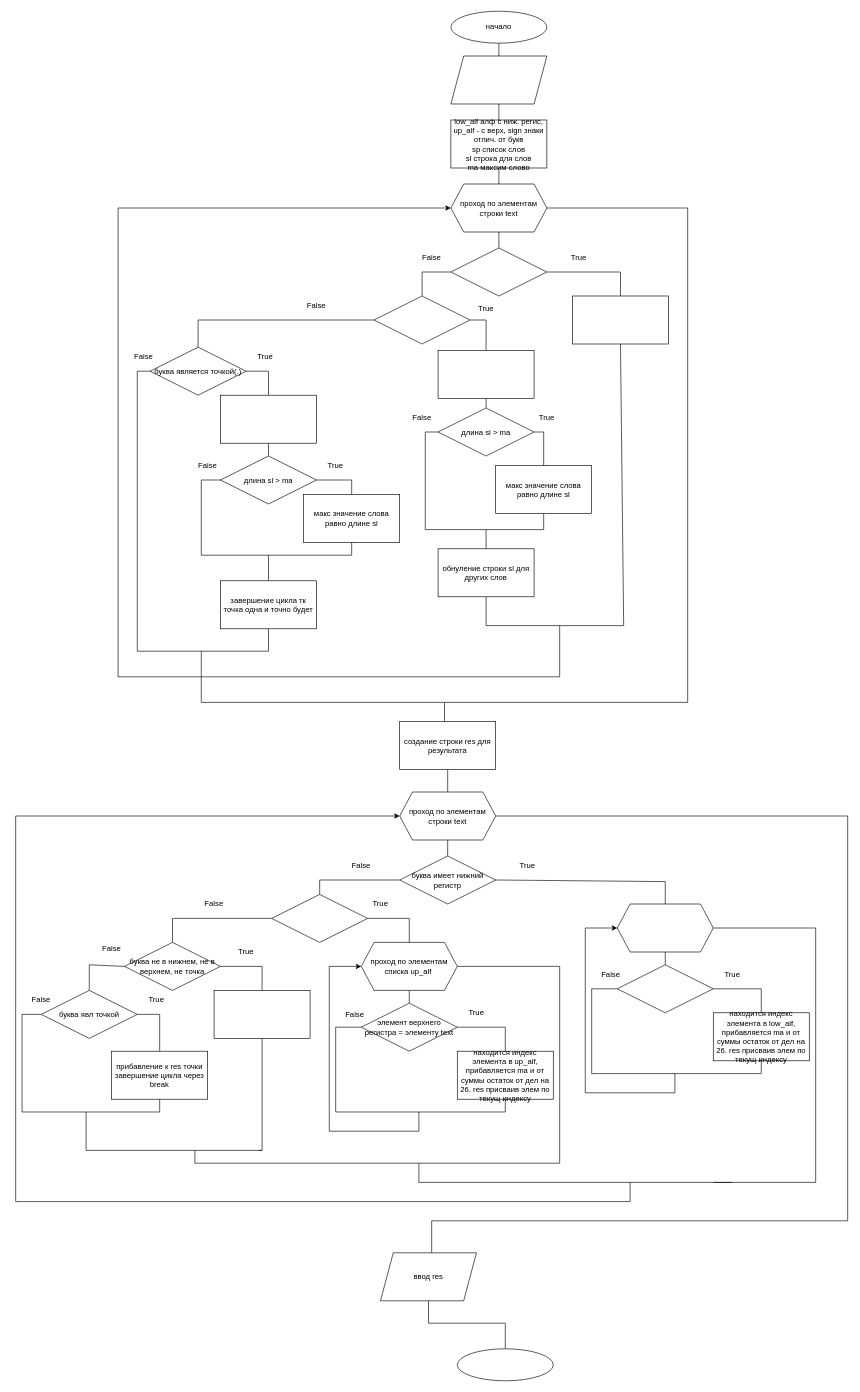
Image size: 860x1392. Some labels were removed from this diagram. Here are the shapes that lost their labels. From the top down, the box of each, then its label:
(450, 55, 547, 104): ввод текста
(450, 247, 547, 296): буква не в znaki и не точка(.)
(373, 295, 470, 344): буква в znaki и не sl не пустая
(572, 295, 668, 344): к строке sl прибавляем по порядку буквы
(437, 350, 534, 398): в список sp добавл. sl и буквы(то есть знаки для этого случ)
(220, 395, 316, 443): в список sp добавл. sl и буквы(то есть точка для этого случ)
(271, 894, 368, 942): буква имеет верхний регистр
(617, 903, 713, 952): проход по элементам списка low_alf
(617, 964, 713, 1013): элемент нижнего регистра = элементу text
(213, 990, 310, 1038): к результату складывается знак точка
(457, 1348, 553, 1381): конец
